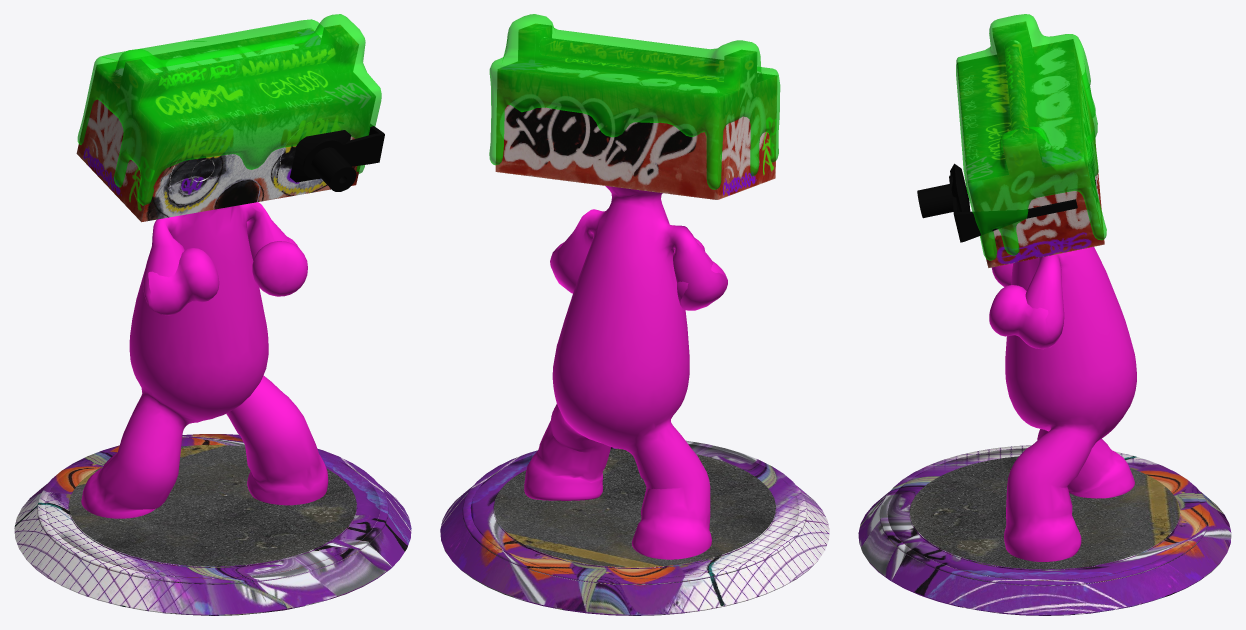
3 renders of one model, left to right at view 1: azimuth 30°, elevation 25°; view 2: azimuth 150°, elevation 25°; view 3: azimuth 270°, elevation 25°, orthographic. The views are drawn at different scales.
Visible parts, largest first — view 1: BBody; view 2: BBody; view 3: BBody.
Boxes of the visible parts, bbox=[...] form: BBody: bbox=[14, 14, 411, 615]; BBody: bbox=[440, 14, 829, 615]; BBody: bbox=[858, 14, 1231, 615].
Size of the model in its own units: 1.45 by 2.06 by 1.45.
6 materials, 3 textured.
